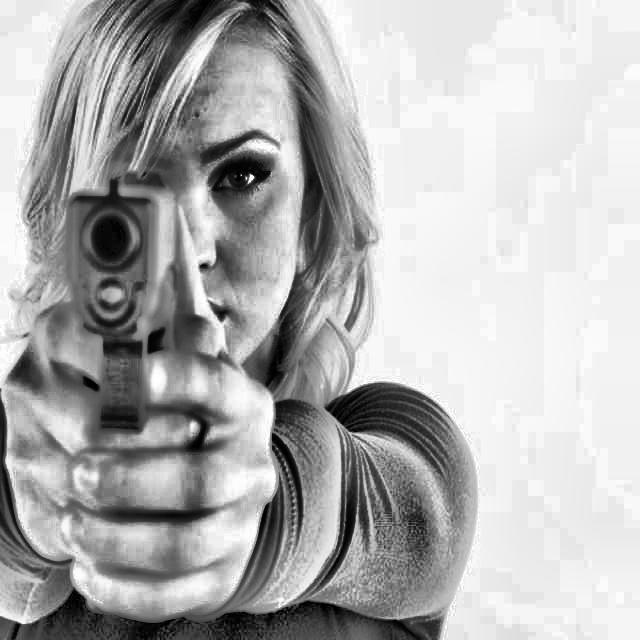pistol: (60, 144, 207, 458)
